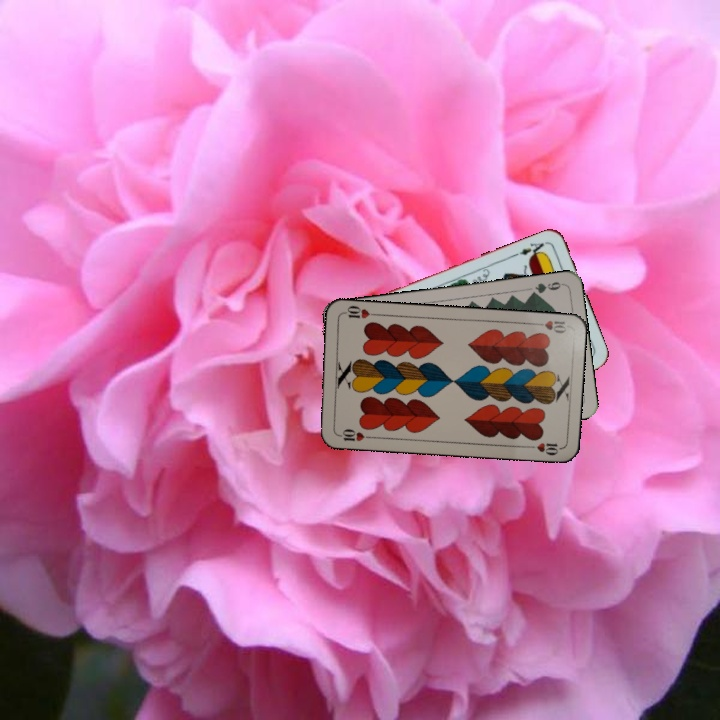EA: (511, 237, 550, 260)
G9: (526, 278, 566, 299)
H10: (530, 316, 569, 336), (334, 425, 374, 444)
